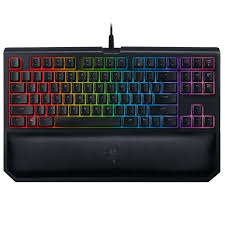keyboard: (0, 46, 219, 145)
